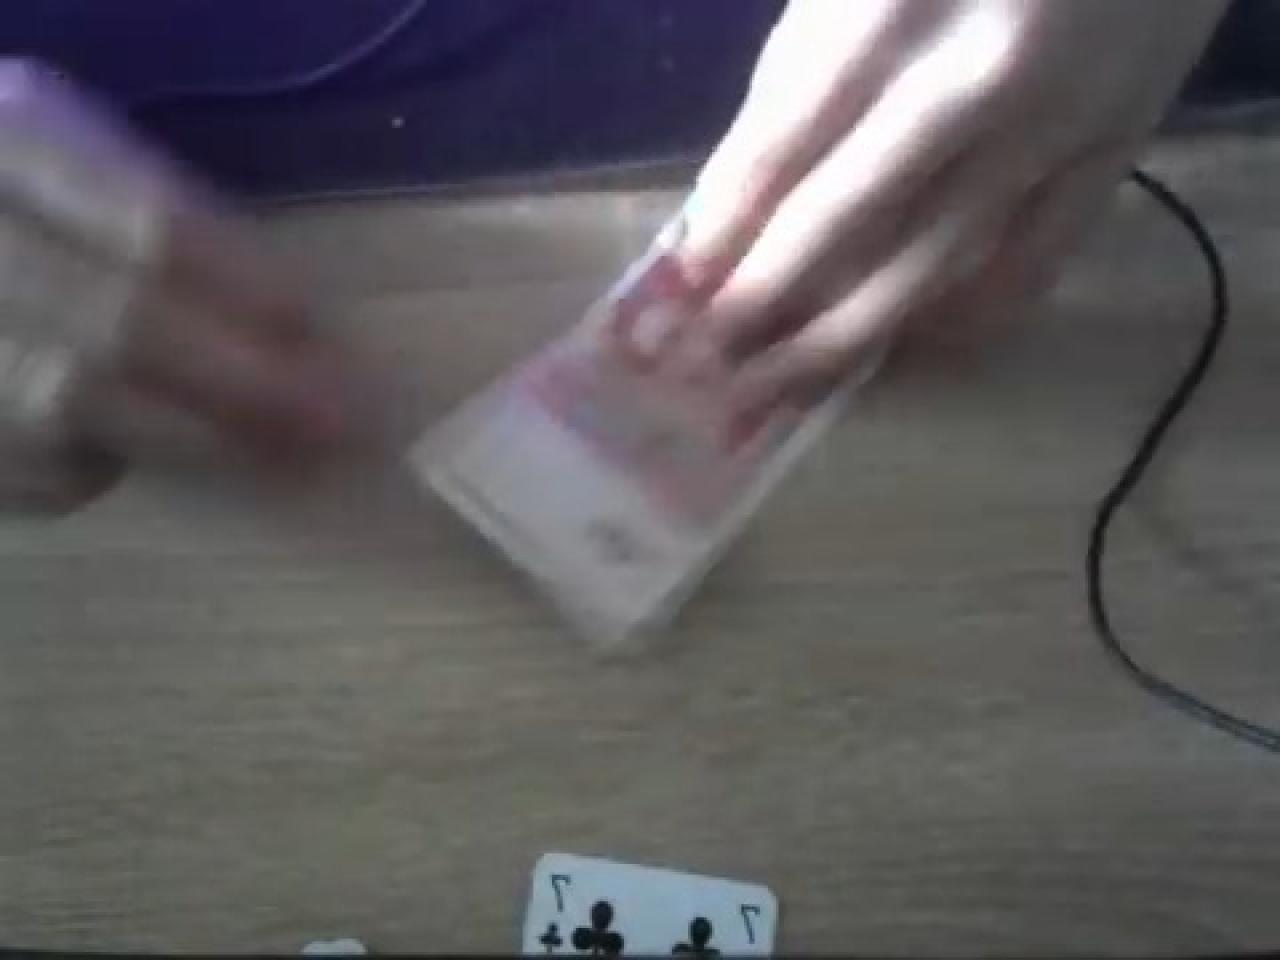5leva: (403, 0, 1238, 656)
